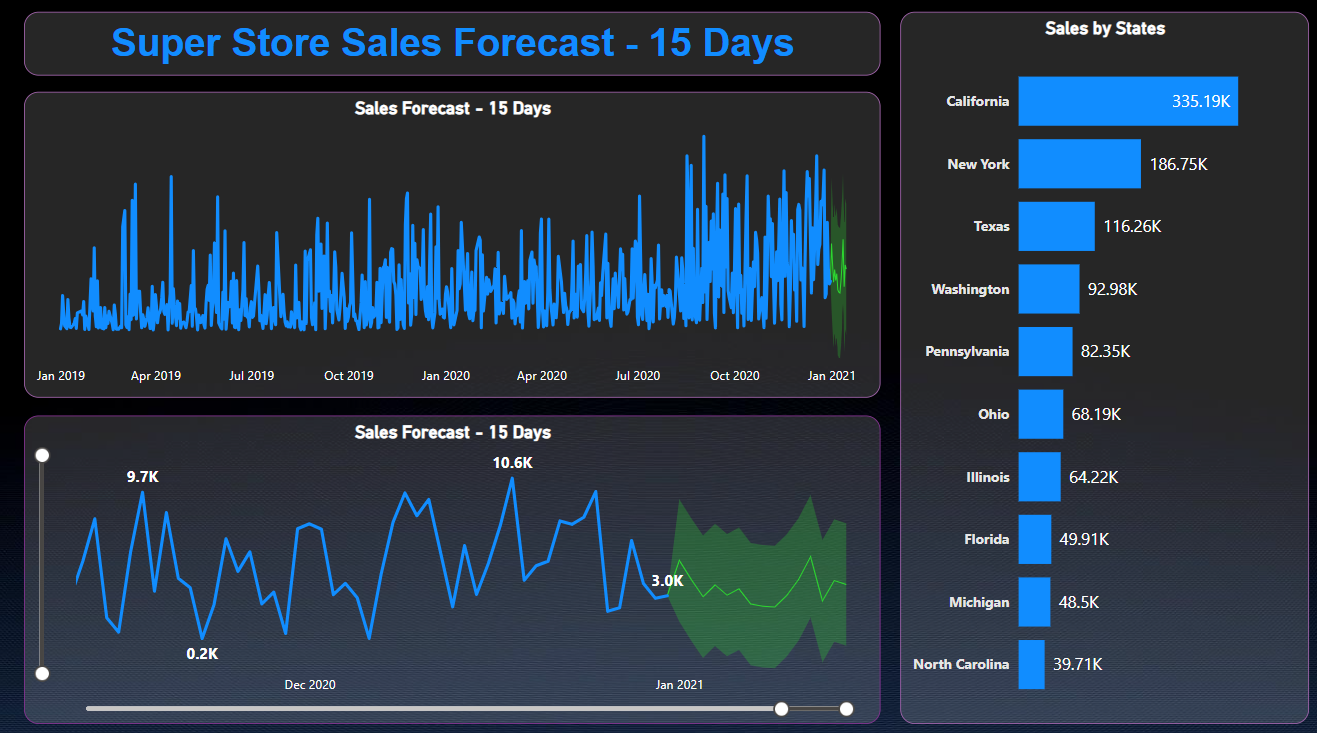

The page's visual inventory and layout, read from the dashboard file:
{"tool":"powerbi","page":{"name":"sales Forecasting","canvas":[1280,720],"ordinal":1},"visuals":[{"type":"lineChart","title":"Sales Forecast - 15 Days","fields":{"Y":["Sum(SuperStore_Sales_Dataset.Sales)"],"Category":["SuperStore_Sales_Dataset.Order Date"]},"box":[24.1,90.5,826.1,295.5],"z":0},{"type":"lineChart","title":"Sales Forecast - 15 Days","fields":{"Y":["Sum(SuperStore_Sales_Dataset.Sales)"],"Category":["SuperStore_Sales_Dataset.Order Date"]},"box":[24.1,402.8,826.1,297.9],"z":1},{"type":"clusteredBarChart","title":"Sales by States","fields":{"Y":["Sum(SuperStore_Sales_Dataset.Sales)"],"Category":["SuperStore_Sales_Dataset.State"]},"box":[869.5,13.3,394.4,687.4],"z":2},{"type":"textbox","box":[24.1,13.3,826.1,61.5],"z":3}]}

Visuals, with their boxes in screenshot pixels (x1, y1, x2, y2), scaled from the page's 1280x720 canvas onto the 1317x733 screenshot:
"Sales Forecast - 15 Days" lineChart: region(25, 92, 875, 393)
"Sales Forecast - 15 Days" lineChart: region(25, 410, 875, 713)
"Sales by States" clusteredBarChart: region(895, 14, 1300, 713)
textbox: region(25, 14, 875, 76)
